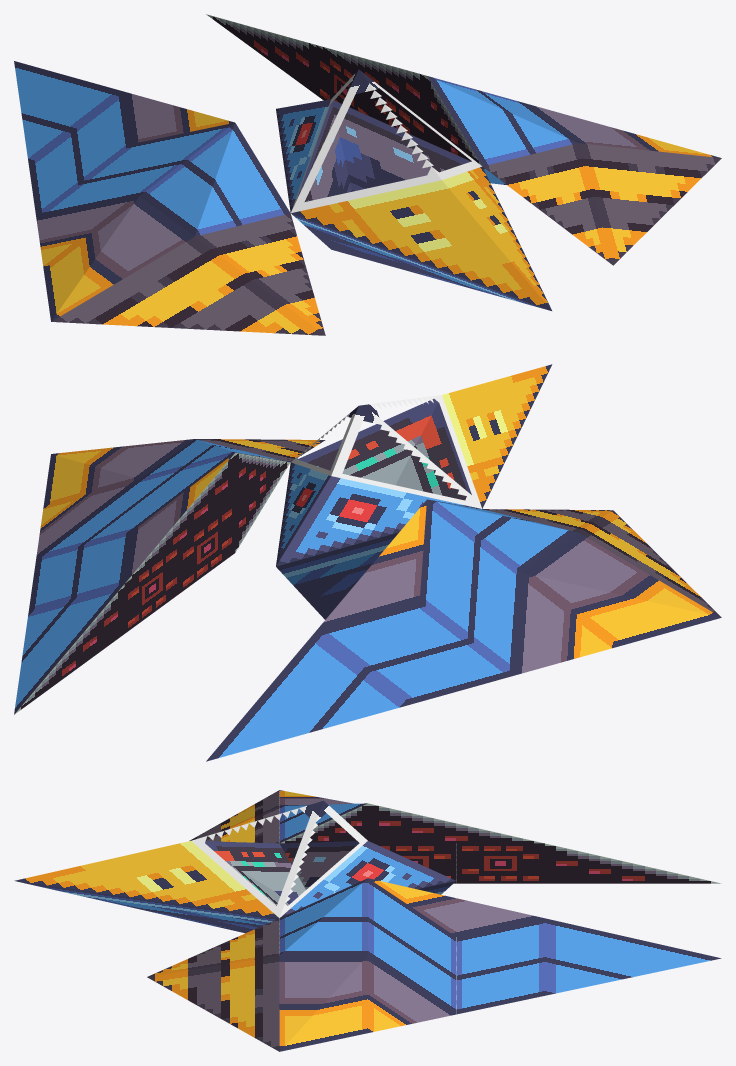
File: BoidCraft.gltf
3 views of the same model, one above another, from view 1: azimuth 30°, elevation 25°; view 2: azimuth 150°, elevation 25°; view 3: azimuth 270°, elevation 25° (orthographic). The views are drawn at different scales.
Bounding box in the file's own units: 7 × 2 × 8.
Materials: 1 (1 with a texture image).
